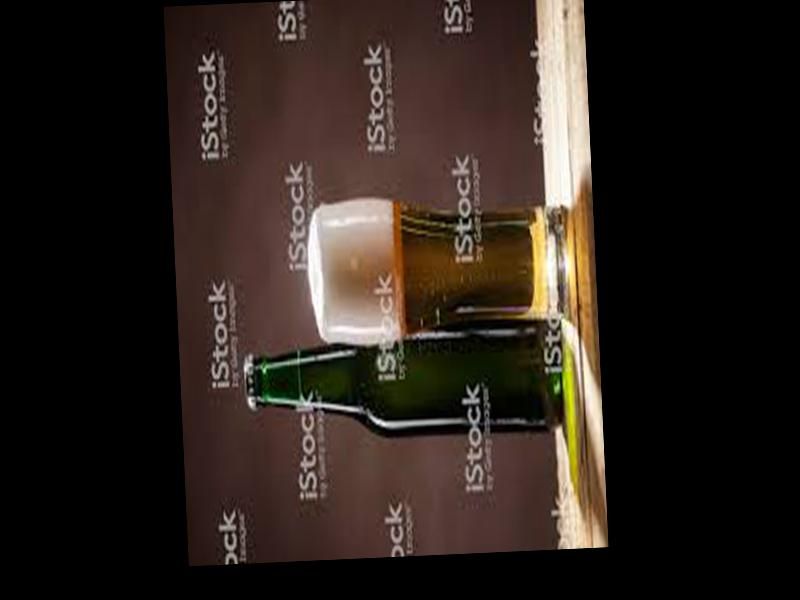Beer: (242, 315, 566, 446)
